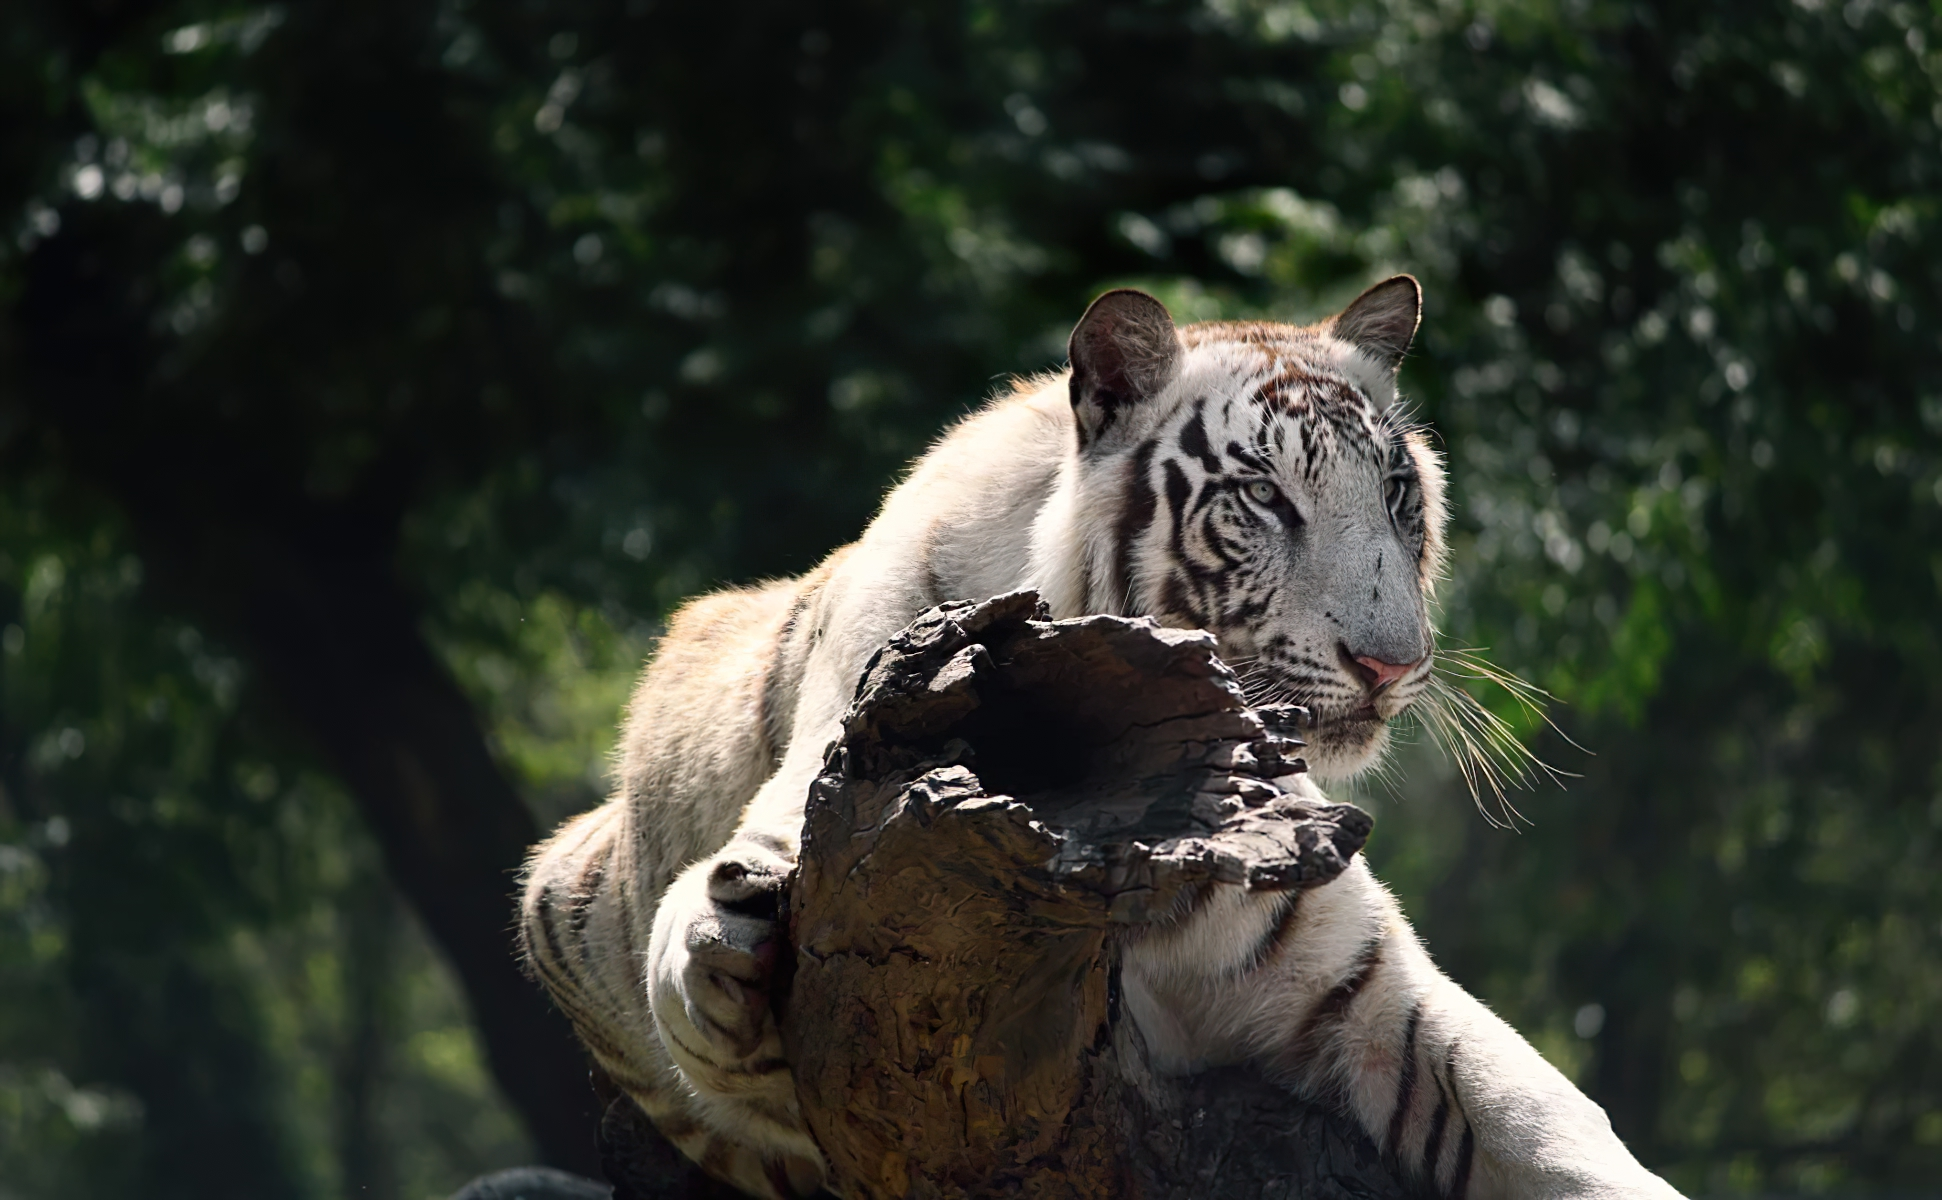tiger: (581, 252, 1710, 1200)
